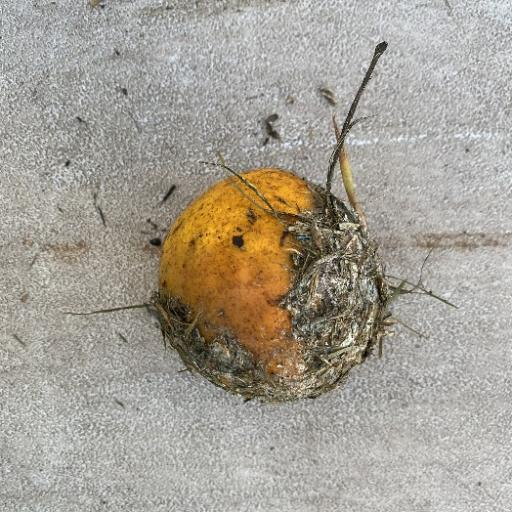Waste: (62, 39, 454, 406)
